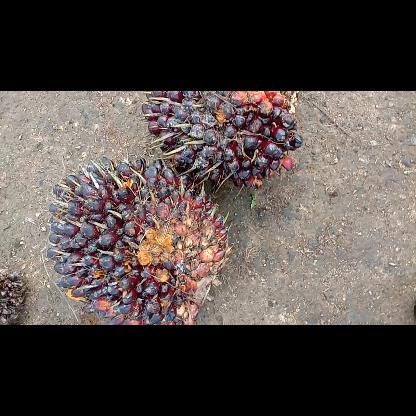Kurang masak: (45, 154, 235, 324), (136, 91, 304, 193)
